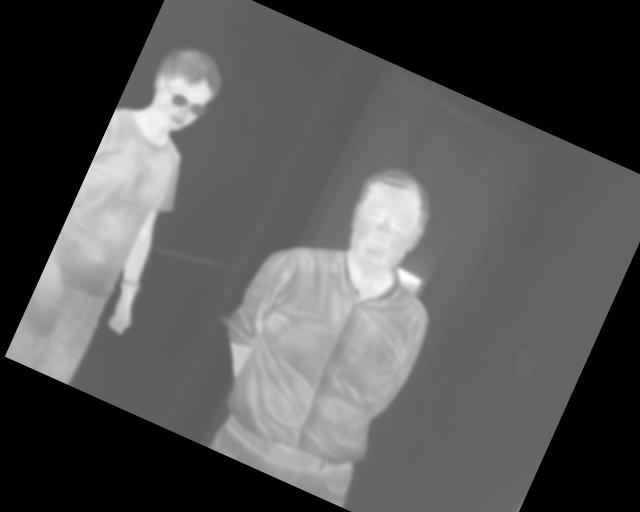face: (329, 156, 445, 287), (136, 36, 233, 143)
